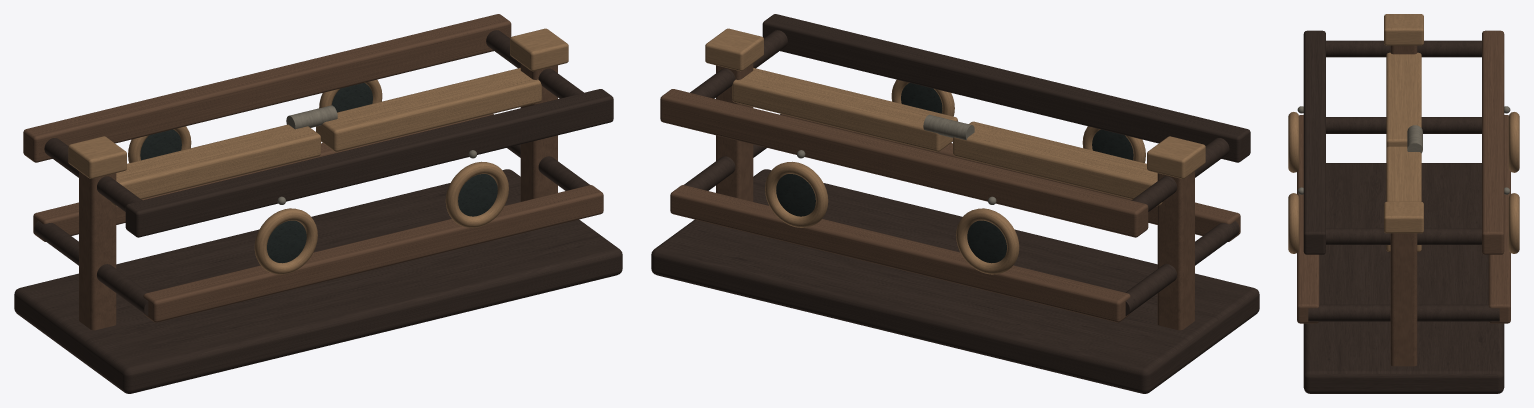
Rendered from stocks.glb.
The picture shows the model from 3 angles, left to right: view 1: azimuth 30°, elevation 25°; view 2: azimuth 150°, elevation 25°; view 3: azimuth 270°, elevation 25°; orthographic projection. The views are drawn at different scales.
Parts seen in each view (by area): view 1: stocks; view 2: stocks; view 3: stocks.
Boxes of the visible parts, left/top/right/bottom form: stocks: left=14, top=14, right=622, bottom=393; stocks: left=651, top=14, right=1259, bottom=393; stocks: left=1288, top=14, right=1519, bottom=393.
Size of the model in its own units: 2.6 by 1 by 1.2.
1 material, 1 textured.
